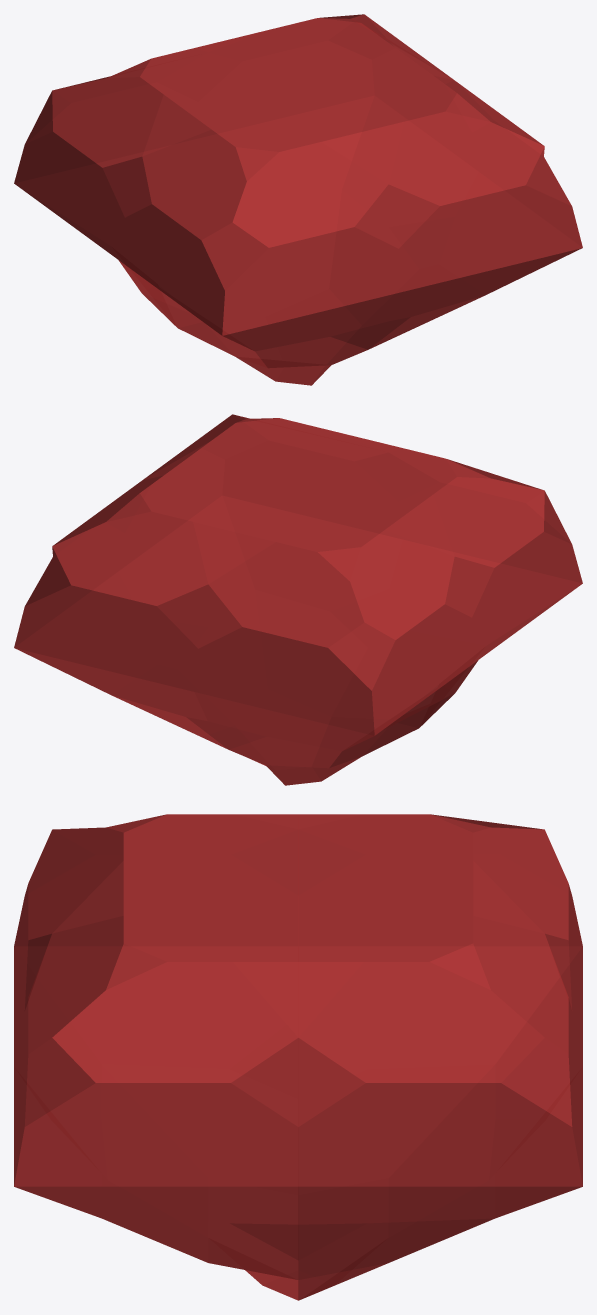
File: GemA.fbx
The picture shows the model from 3 angles, top to bottom: view 1: azimuth 30°, elevation 25°; view 2: azimuth 150°, elevation 25°; view 3: azimuth 270°, elevation 25°; orthographic projection. The views are drawn at different scales.
Visible parts, largest first — view 1: GemA; view 2: GemA; view 3: GemA.
Part boxes in pixels (left/top/right/bottom): GemA: left=14, top=14, right=582, bottom=385; GemA: left=14, top=414, right=582, bottom=785; GemA: left=14, top=814, right=582, bottom=1300.
Size of the model in its own units: 10.34 by 7.97 by 10.34.
